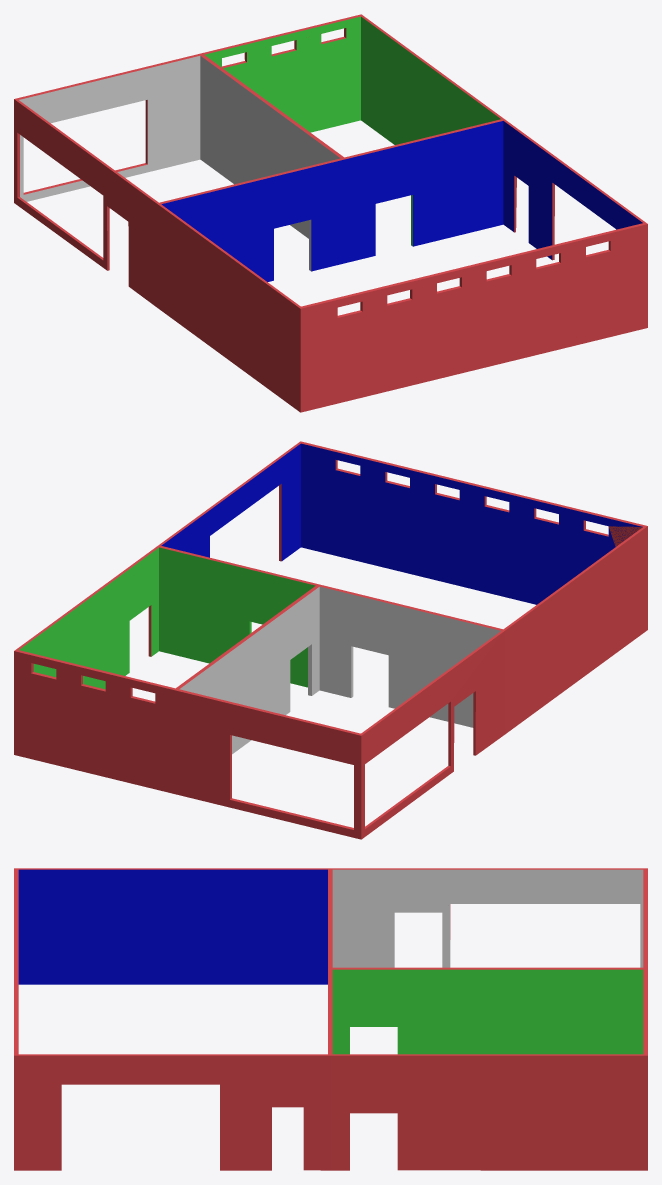
Rendered from gebaeude - Kopie.fbx.
3 views of the same model, one above another, from view 1: azimuth 30°, elevation 25°; view 2: azimuth 150°, elevation 25°; view 3: azimuth 270°, elevation 25° (orthographic). The views are drawn at different scales.
Parts seen in each view (by area): view 1: gebaude_aussen, Lager Innenwand, Innenwand Verkauf Werkstatt; view 2: gebaude_aussen, Lager Innenwand, Innenwand Verkauf Werkstatt; view 3: gebaude_aussen, Innenwand Verkauf Werkstatt, Lager Innenwand.
Boxes of the visible parts, <box> form: gebaude_aussen: <box>14,14,647,412</box>; Lager Innenwand: <box>159,119,504,281</box>; Innenwand Verkauf Werkstatt: <box>200,54,343,238</box>; gebaude_aussen: <box>14,441,647,839</box>; Lager Innenwand: <box>158,546,503,727</box>; Innenwand Verkauf Werkstatt: <box>176,585,319,754</box>; gebaude_aussen: <box>14,868,647,1170</box>; Innenwand Verkauf Werkstatt: <box>330,967,645,1054</box>; Lager Innenwand: <box>328,869,332,1054</box>.
Bounding box in the file's own units: 1401 × 400 × 2000.
